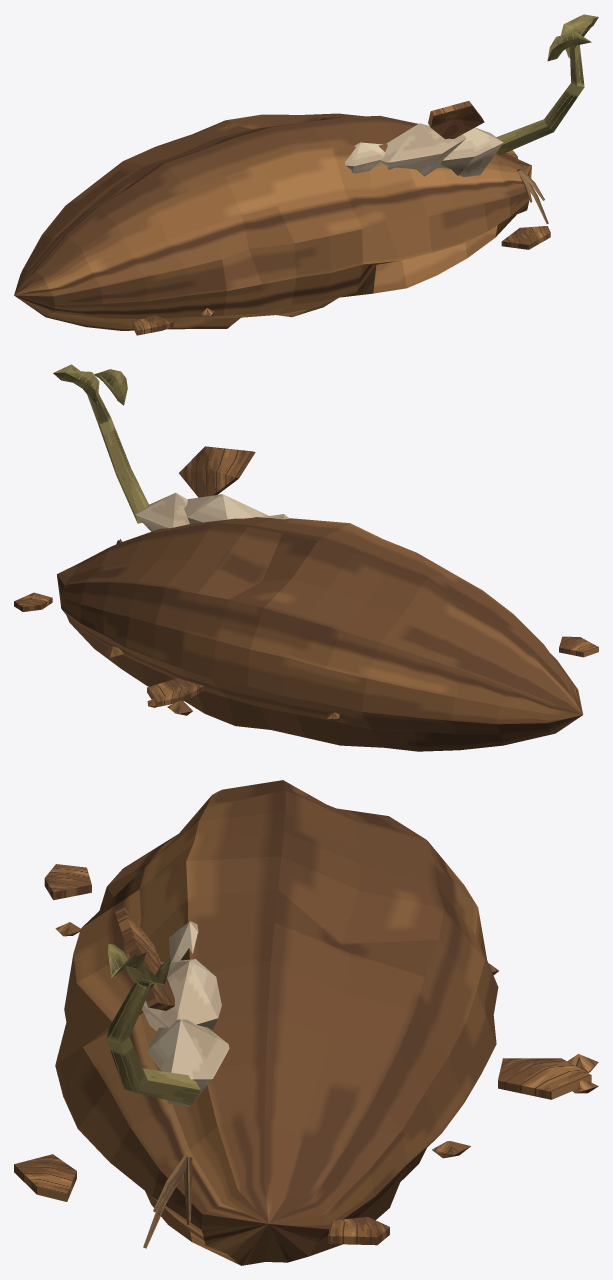
File: SM_AN22_Seed.fbx
The picture shows the model from 3 angles, top to bottom: view 1: azimuth 30°, elevation 25°; view 2: azimuth 150°, elevation 25°; view 3: azimuth 270°, elevation 25°; orthographic projection. The views are drawn at different scales.
Parts seen in each view (by area): view 1: AN22a_Props; view 2: AN22a_Props; view 3: AN22a_Props.
Boxes of the visible parts, bbox=[...] form: AN22a_Props: bbox=[14, 14, 598, 335]; AN22a_Props: bbox=[14, 364, 598, 751]; AN22a_Props: bbox=[14, 780, 598, 1265].
Bounding box in the file's own units: 0.5921 × 0.2504 × 0.3322.
